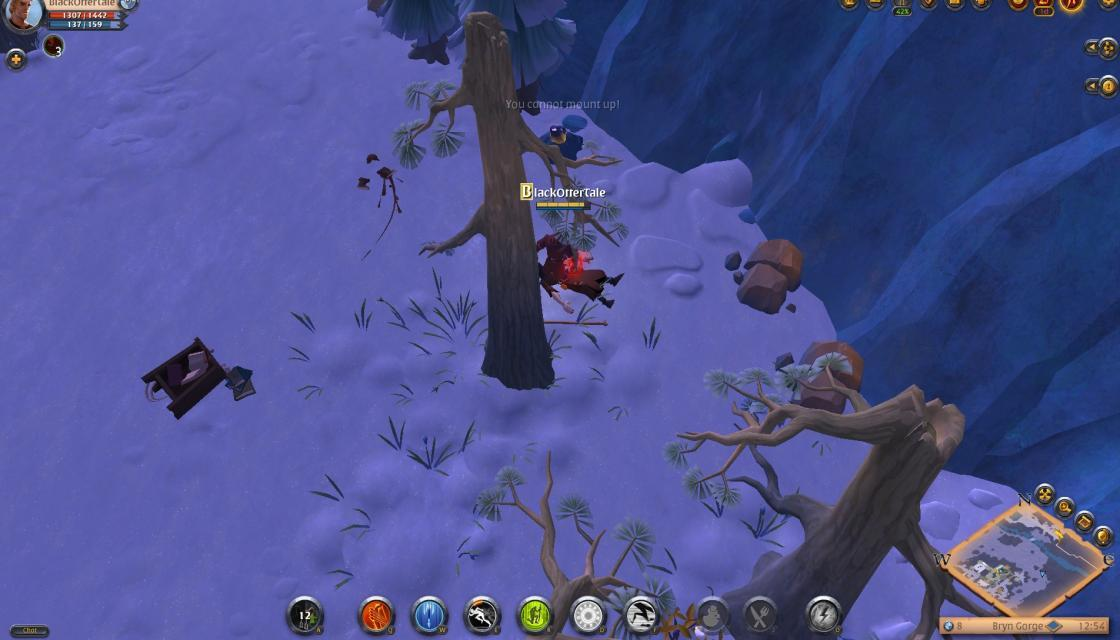copperore: (534, 119, 587, 163)
limestone: (731, 234, 808, 314), (788, 337, 863, 415)
